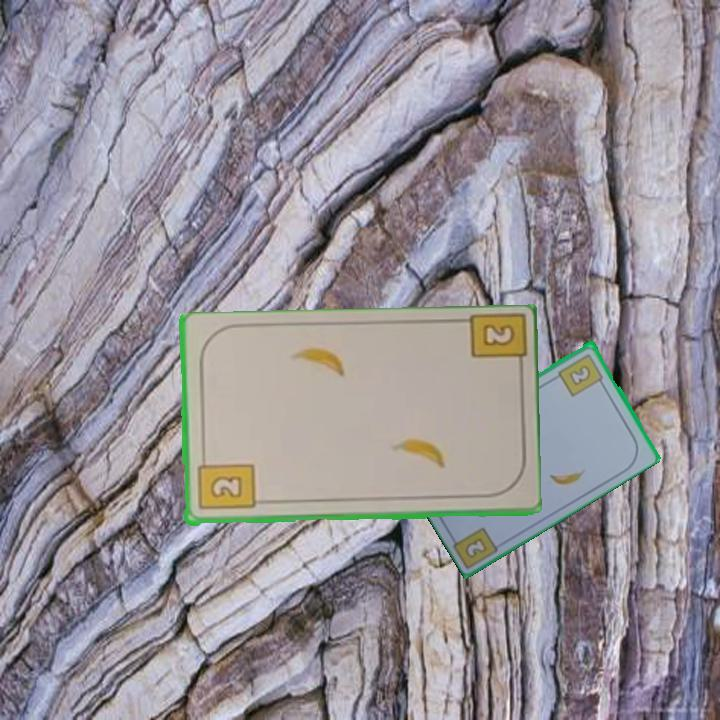2b: (463, 313, 525, 378), (194, 452, 256, 513), (555, 350, 607, 399), (463, 536, 488, 559)
